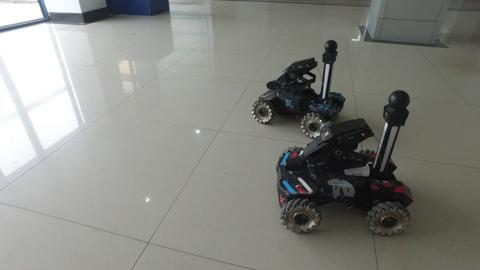chariot: (265, 87, 432, 236), (247, 34, 351, 140)
